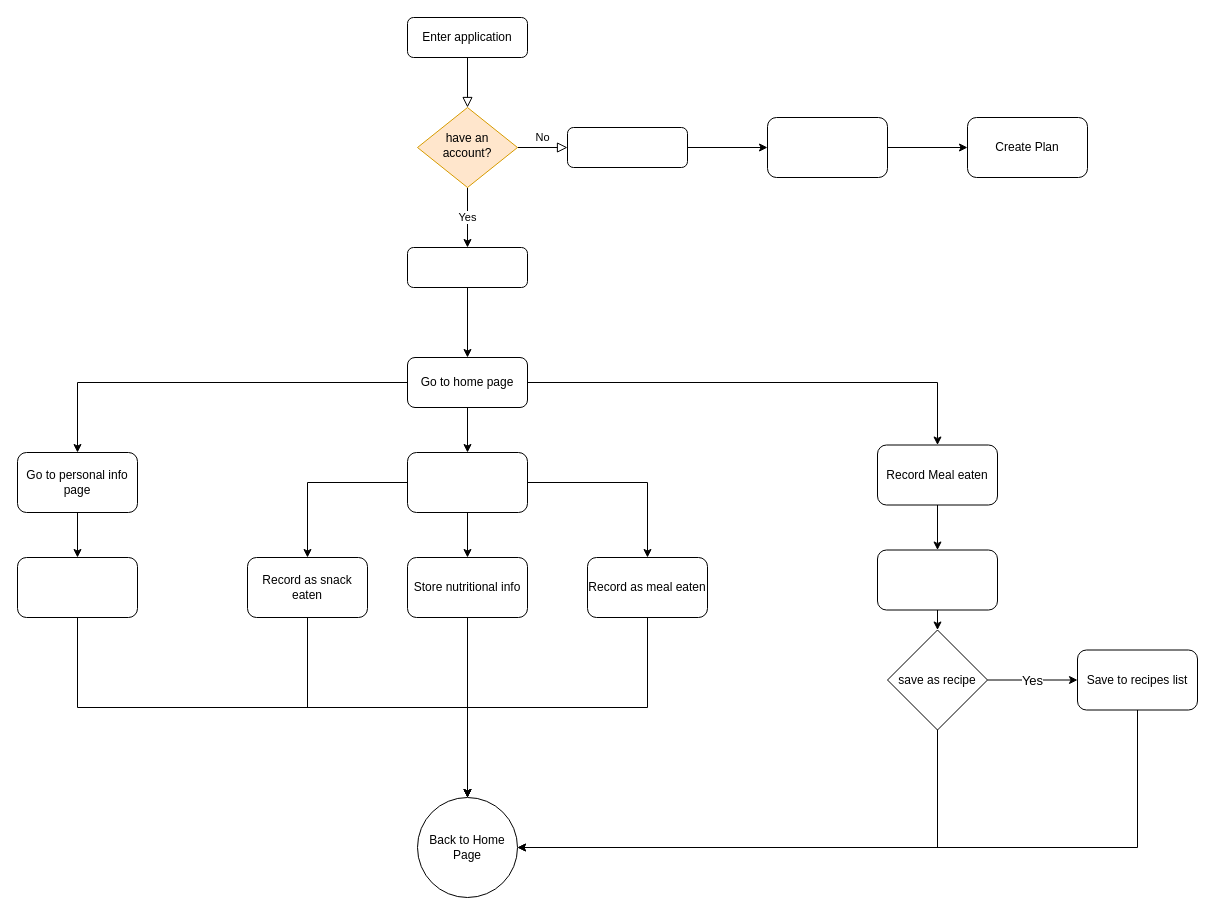
This 1215x915 diagram has some shape labels left out. The centre of each missing label's shape, as x and y in pixels:
Change personal Info: point 77,587
Check Nutrition of store food: point 467,482
Enter information and goals: point 827,147
Enter Nutritional info: point 937,579
Login: point 467,267
Register: point 627,147
